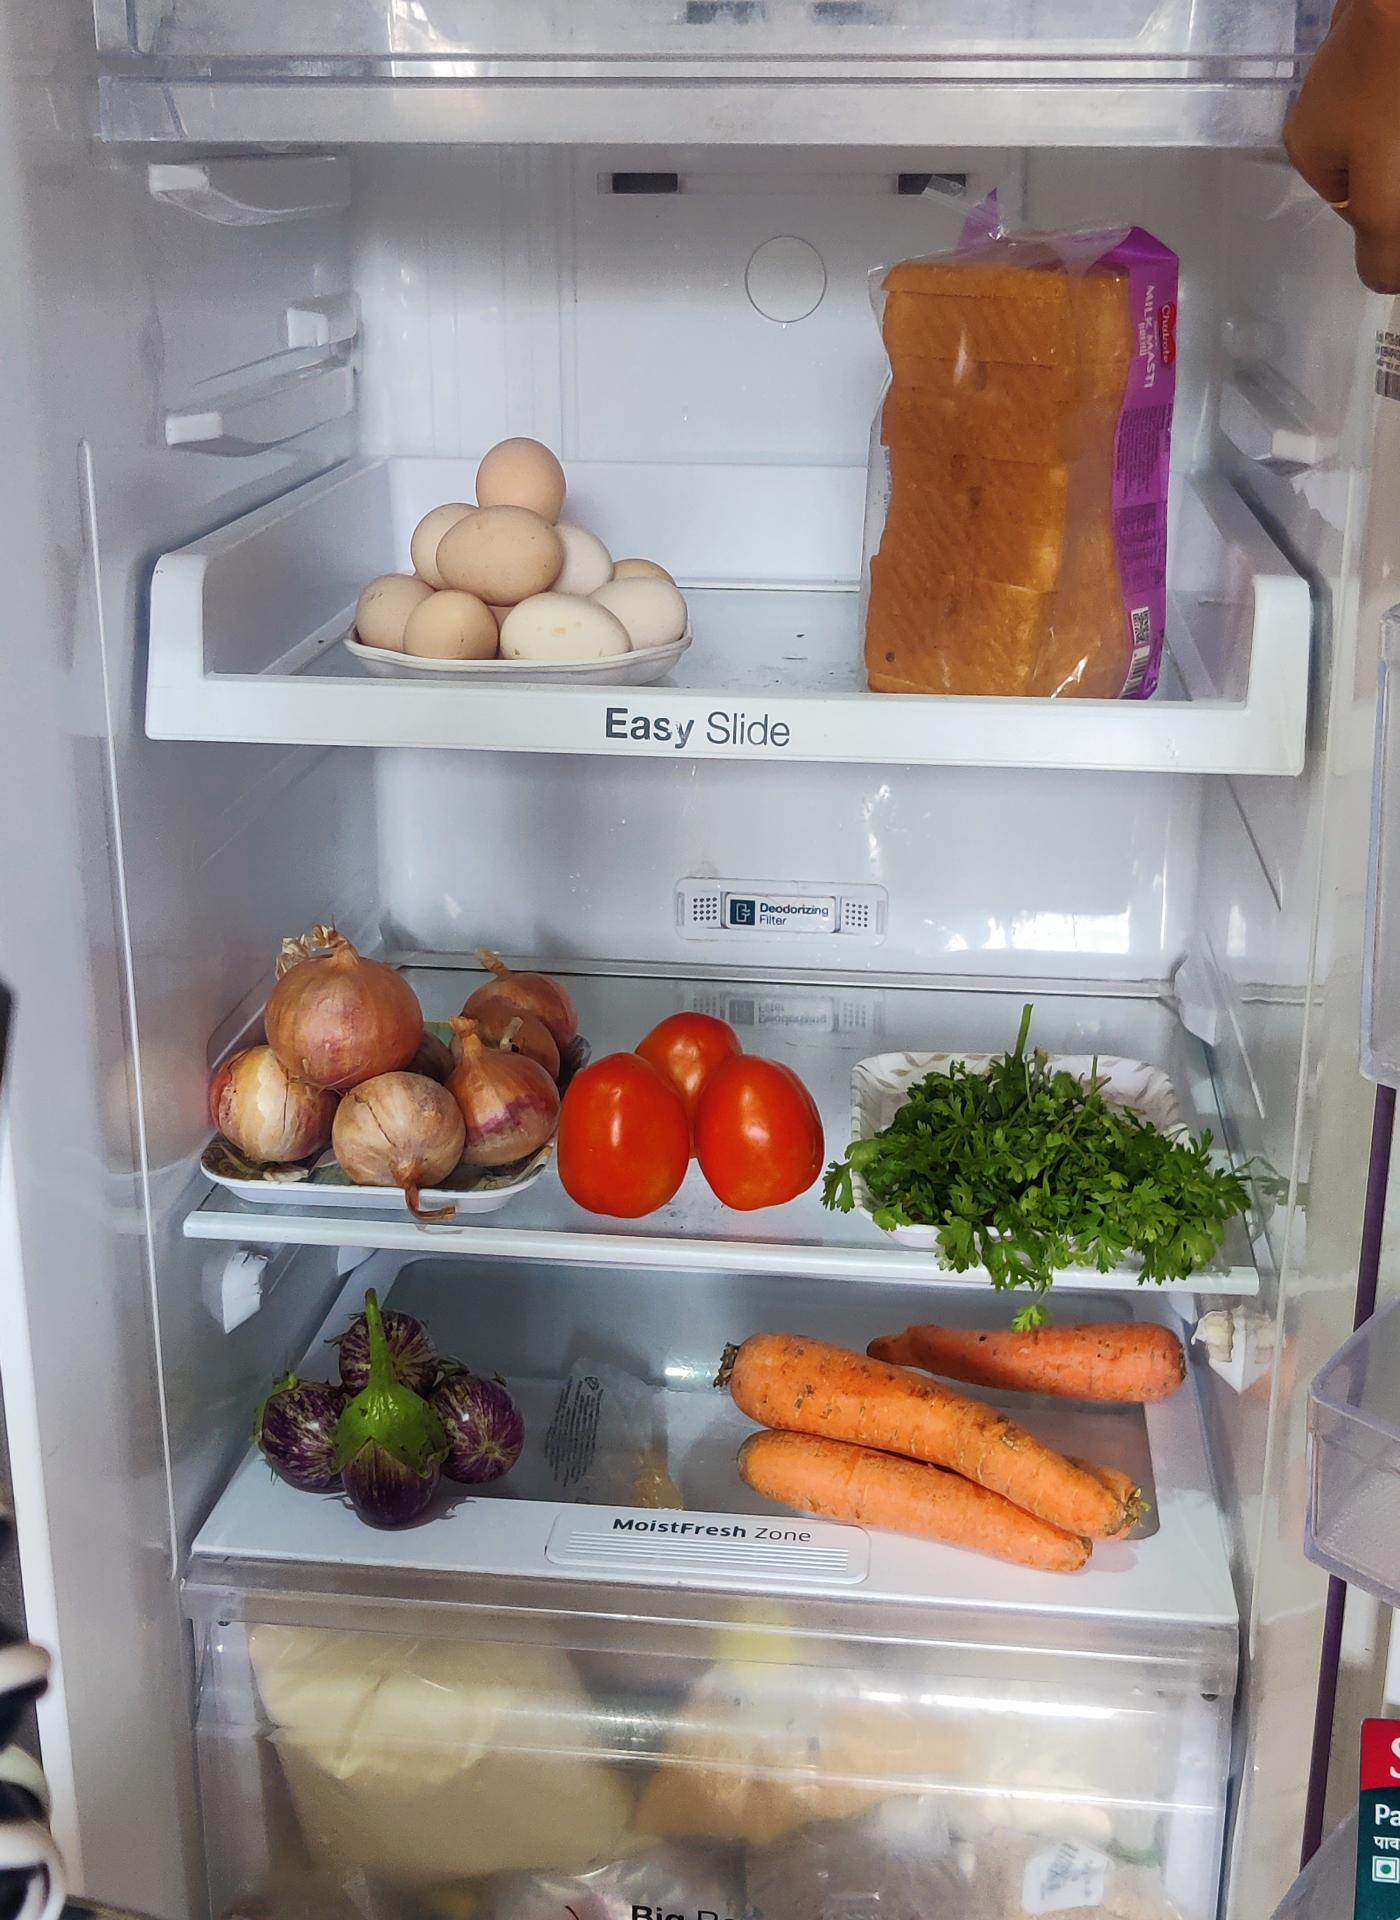bread: (852, 220, 1193, 698)
carrots: (716, 1331, 1176, 1577)
coriander: (843, 1061, 1251, 1291)
egg: (362, 422, 698, 656)
onion: (212, 927, 585, 1190)
tomato: (557, 1013, 823, 1218)
